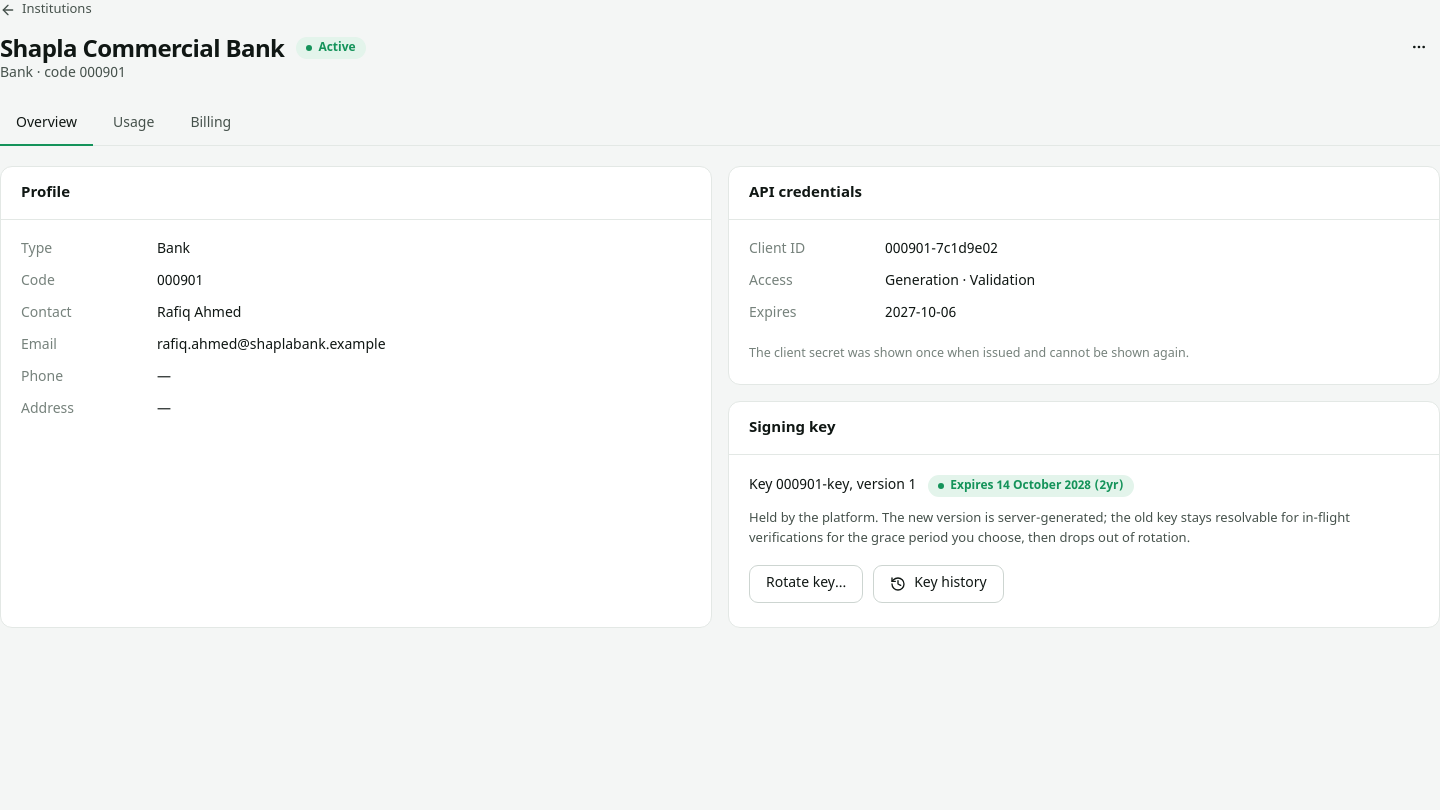
Scenario: institution detail › suspends from the detail page
Step 1. Click the button named "More actions" → [1419, 47], box top-left (1398, 32), bottom-right (1439, 62)
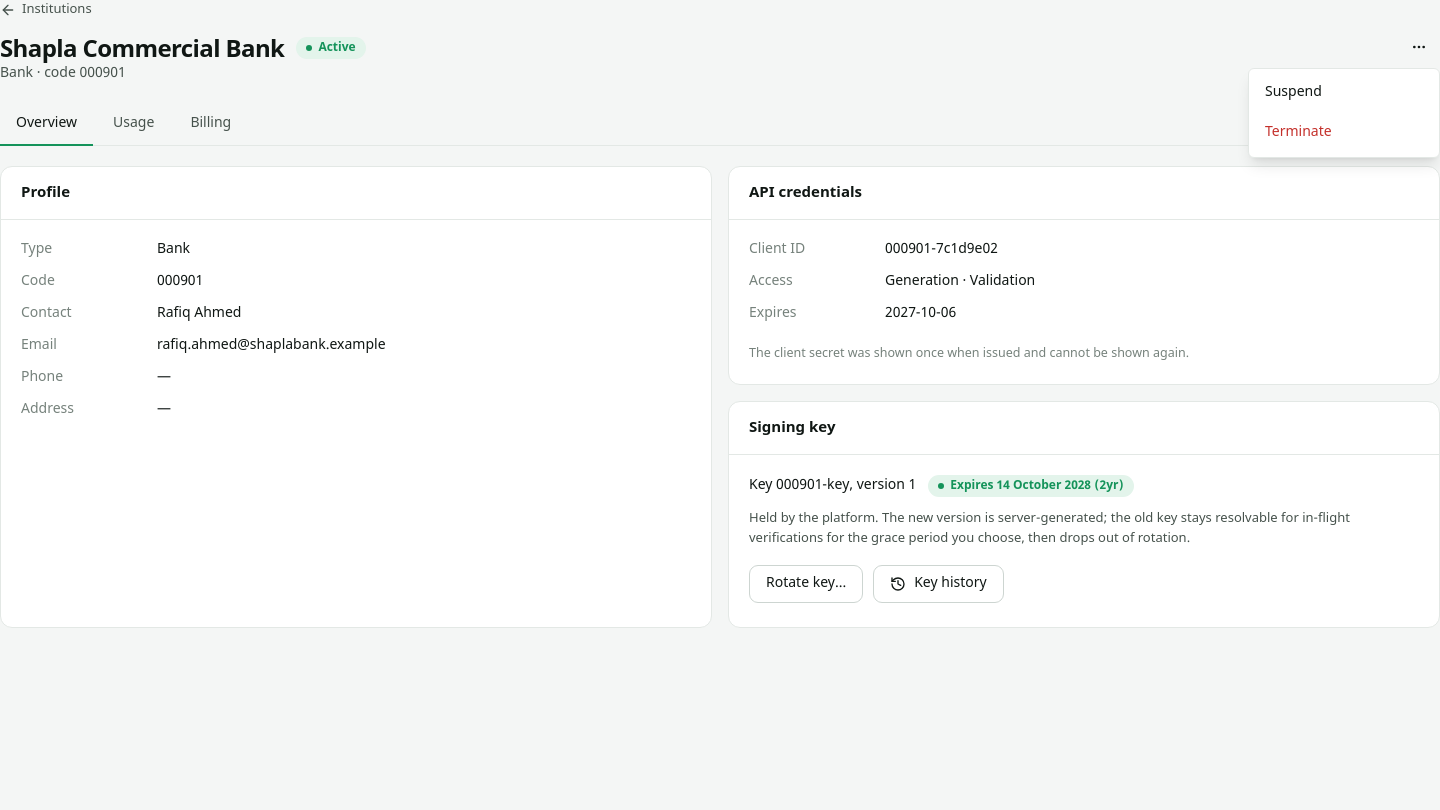
Step 2. Click the menu item "Suspend" → [1293, 92], box top-left (1265, 83), bottom-right (1322, 102)
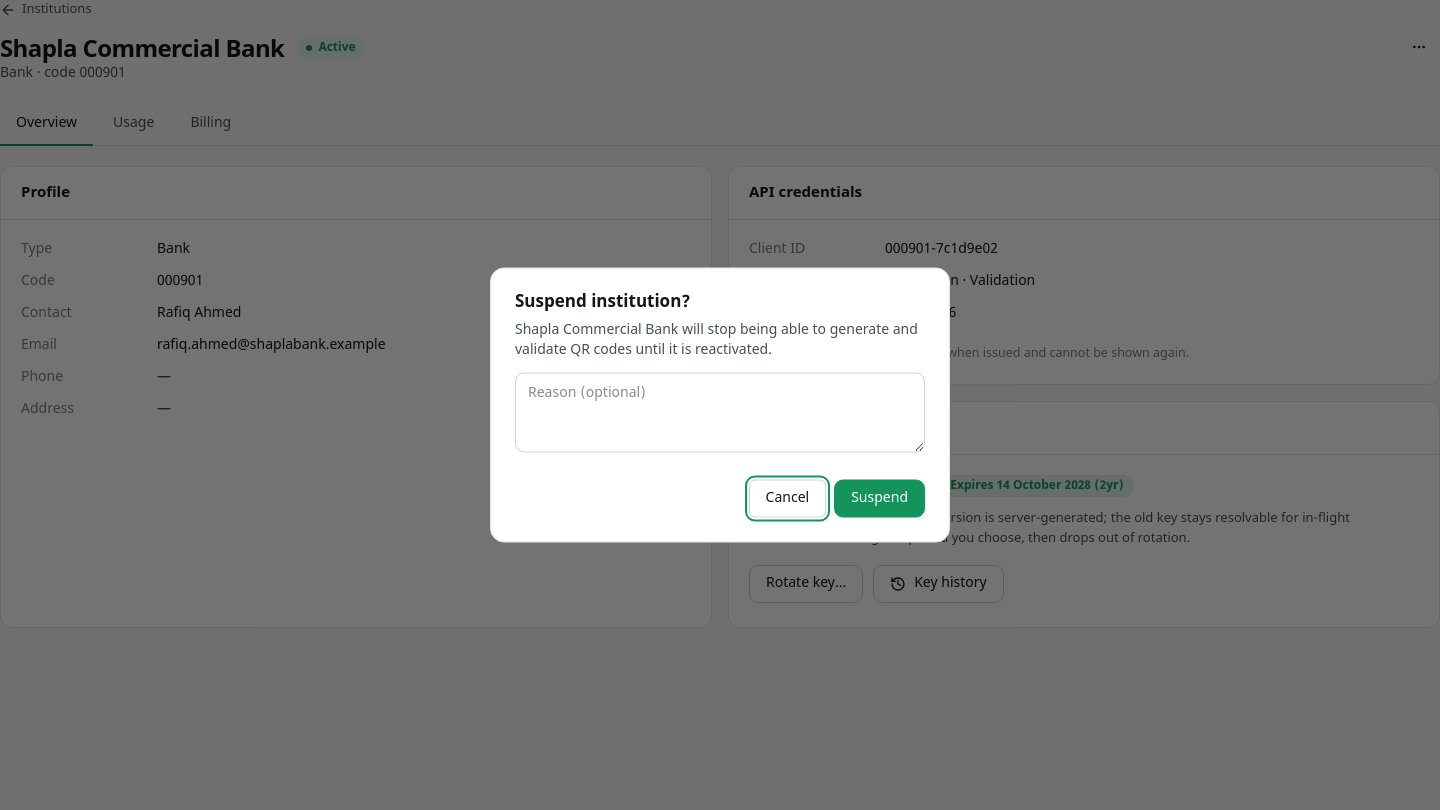
Step 3. Click the button "Suspend" → [880, 498], box top-left (834, 480), bottom-right (925, 518)
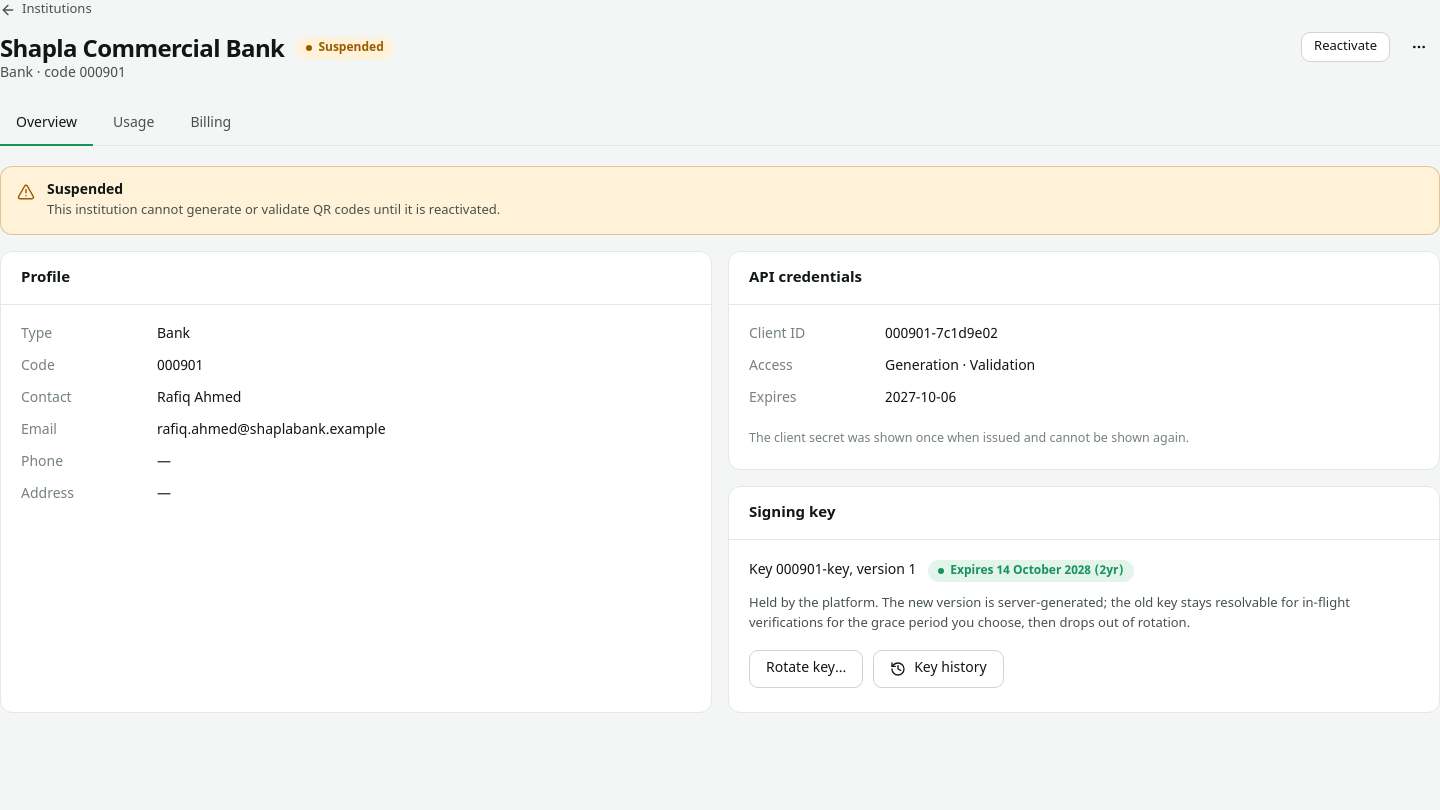
Result: the text "Suspended" is shown at top-left (296, 37), bottom-right (394, 59)
